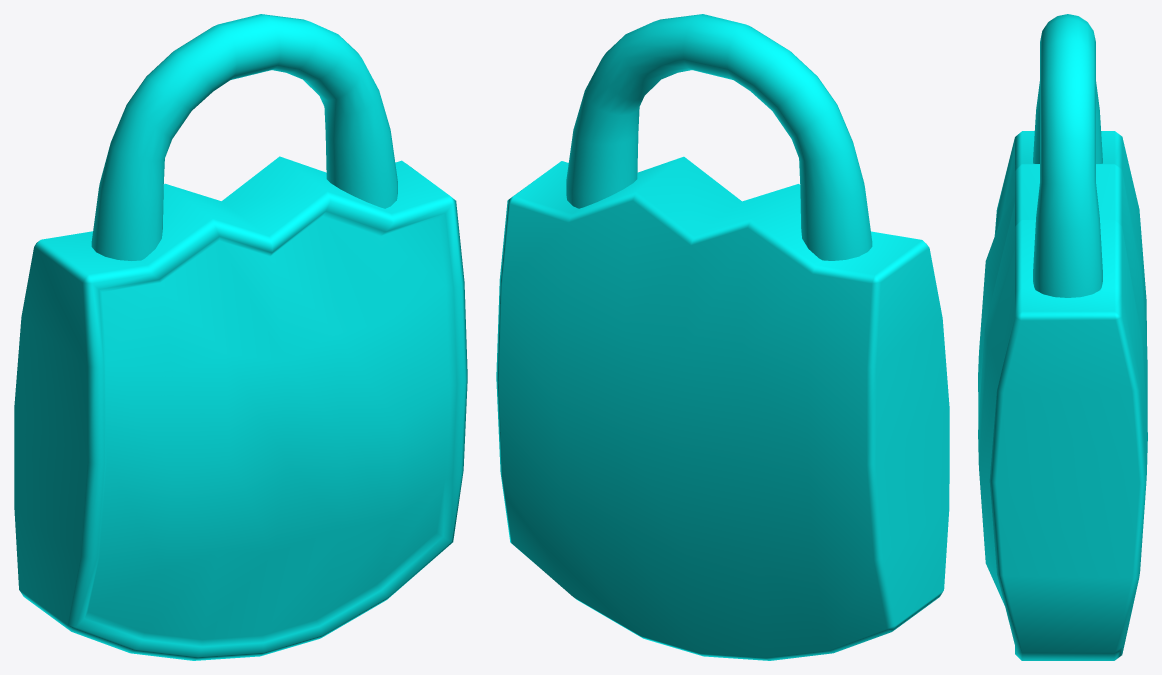
Rendered from Keylock.fbx.
The picture shows the model from 3 angles, left to right: view 1: azimuth 30°, elevation 25°; view 2: azimuth 150°, elevation 25°; view 3: azimuth 270°, elevation 25°; orthographic projection. The views are drawn at different scales.
Visible parts, largest first — view 1: Lock; view 2: Lock; view 3: Lock.
Boxes of the visible parts, x1,y1,x2,y2 form: Lock: [14, 14, 467, 660]; Lock: [496, 14, 949, 660]; Lock: [978, 14, 1147, 660].
Bounding box in the file's own units: 2.45 × 3.71 × 0.9508.
